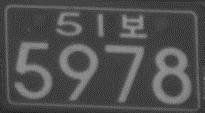1: (90, 13, 111, 38)
5: (12, 40, 53, 100), (54, 10, 82, 37)
7: (103, 42, 144, 104)
8: (150, 46, 193, 105)
9: (57, 42, 99, 102)
보: (118, 13, 148, 39)
